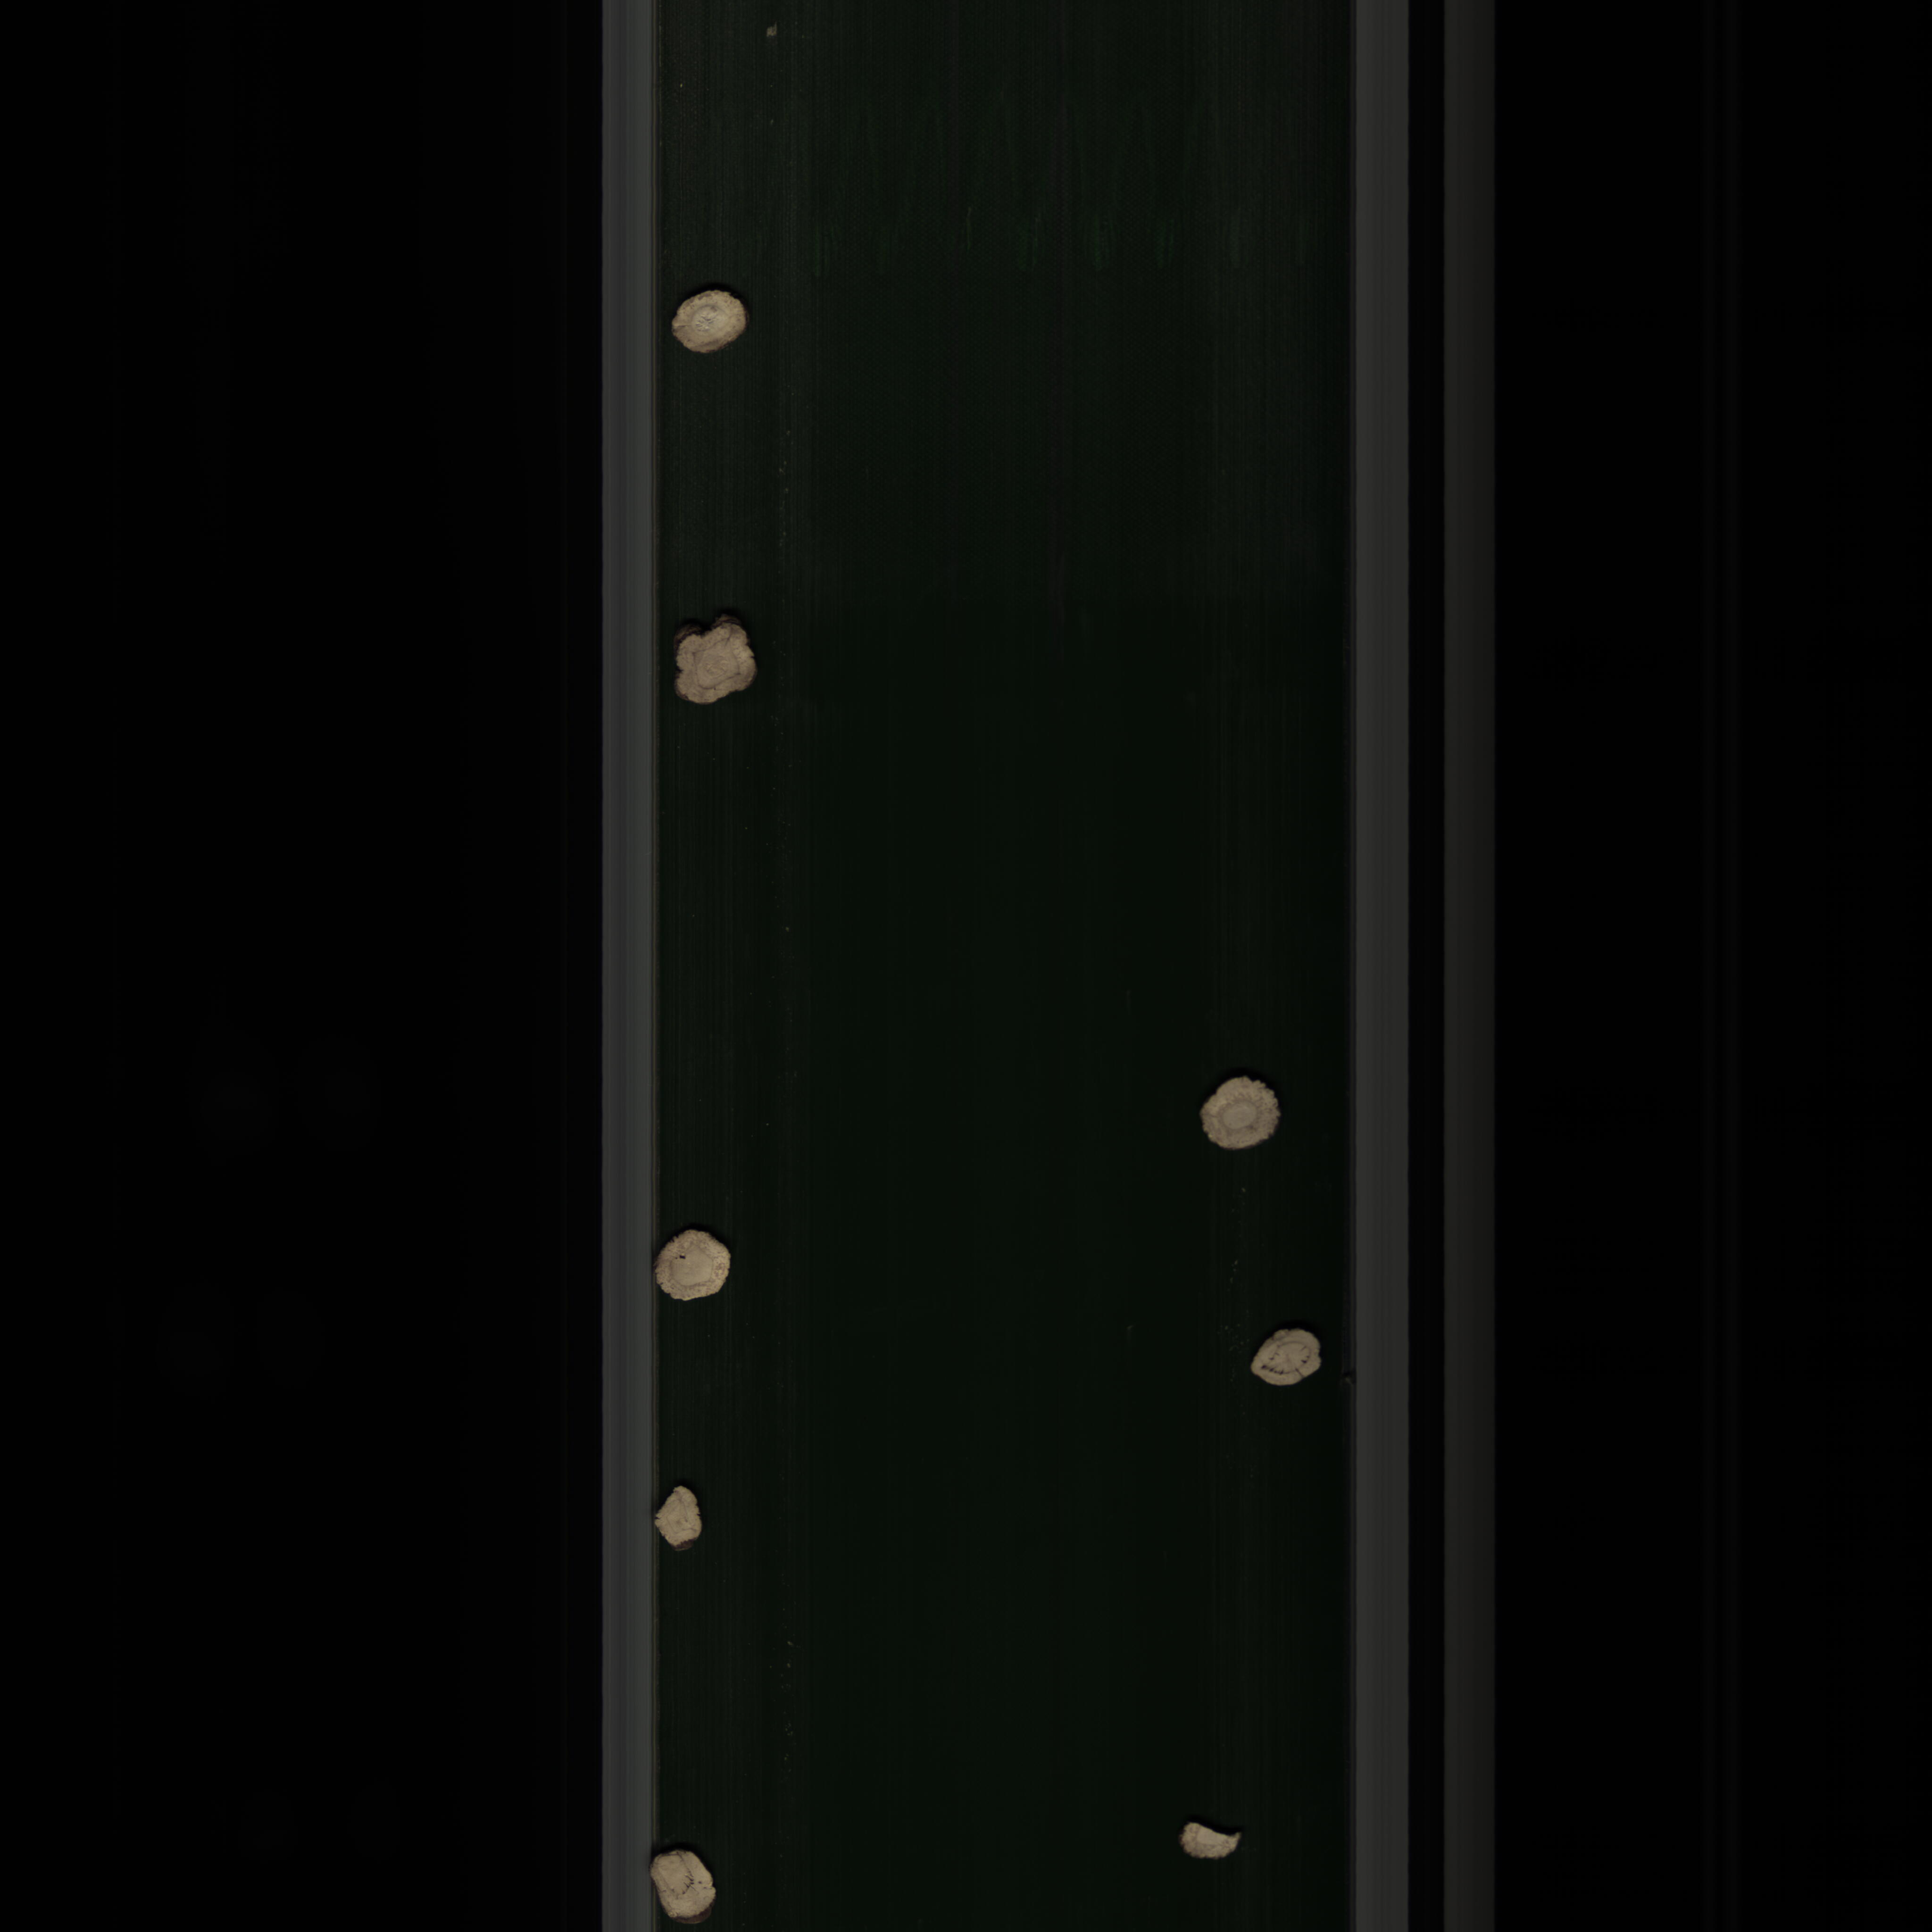debris: (1178, 1808, 1253, 1877), (653, 1476, 711, 1560)
distortion: (667, 610, 770, 722)
hole: (1242, 1322, 1330, 1398)
